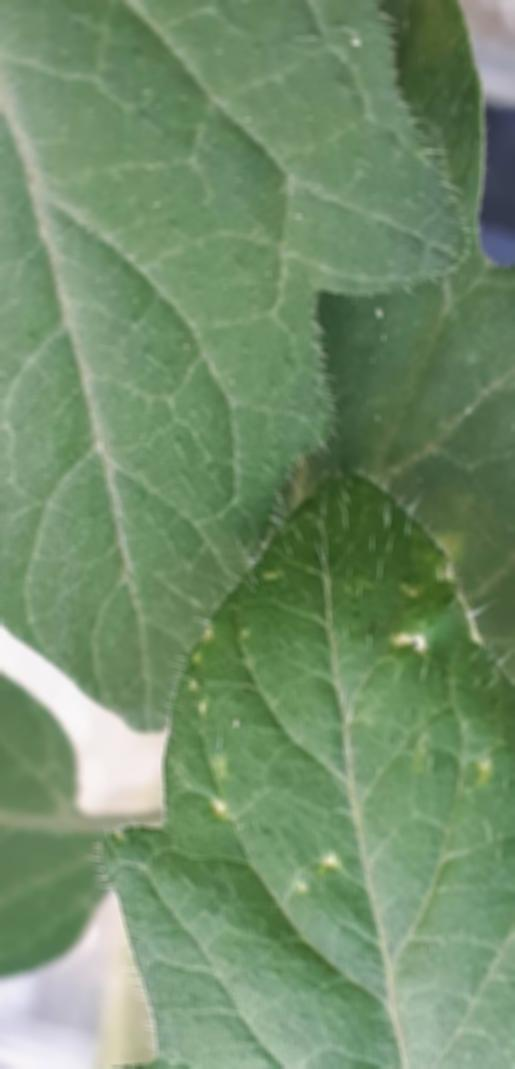Tomato mold leaf: (0, 0, 464, 769), (74, 453, 515, 1069)
